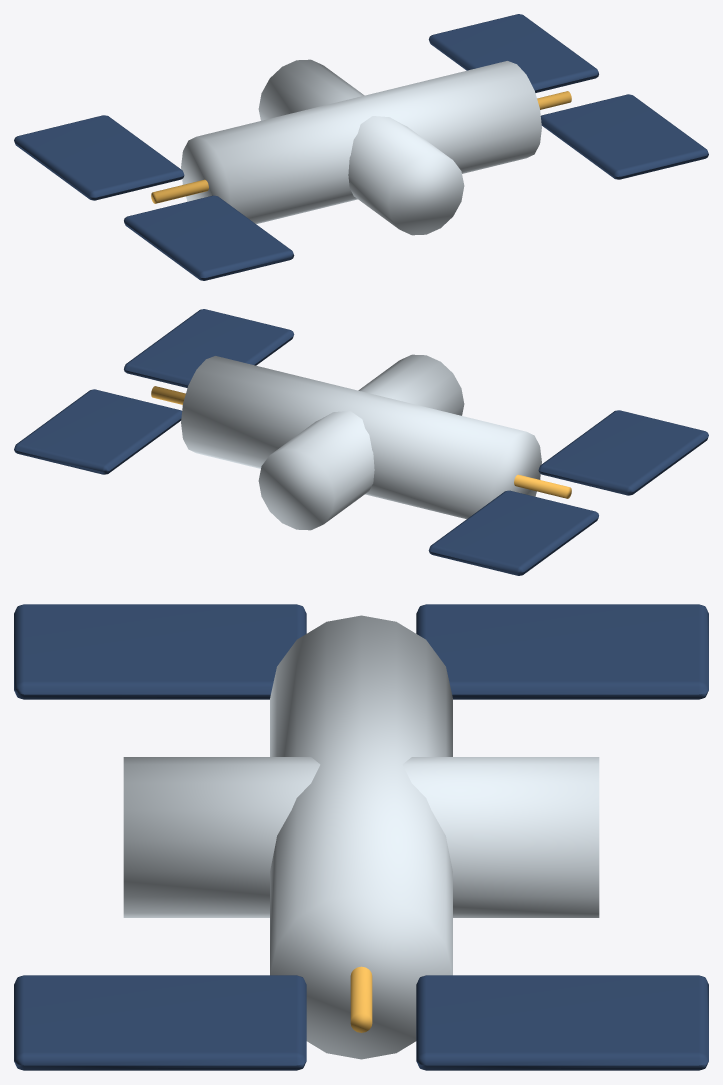
File: space-station-lite.glb
3 renders of one model, top to bottom at view 1: azimuth 30°, elevation 25°; view 2: azimuth 150°, elevation 25°; view 3: azimuth 270°, elevation 25°, orthographic. The views are drawn at different scales.
Parts seen in each view (by area): view 1: Main module; view 2: Main module; view 3: Main module.
Part boxes in pixels (left/top/right/bottom): Main module: left=14, top=14, right=708, bottom=280; Main module: left=14, top=309, right=708, bottom=575; Main module: left=14, top=604, right=708, bottom=1070.
Size of the model in its own units: 2.95 by 0.5 by 1.9.
